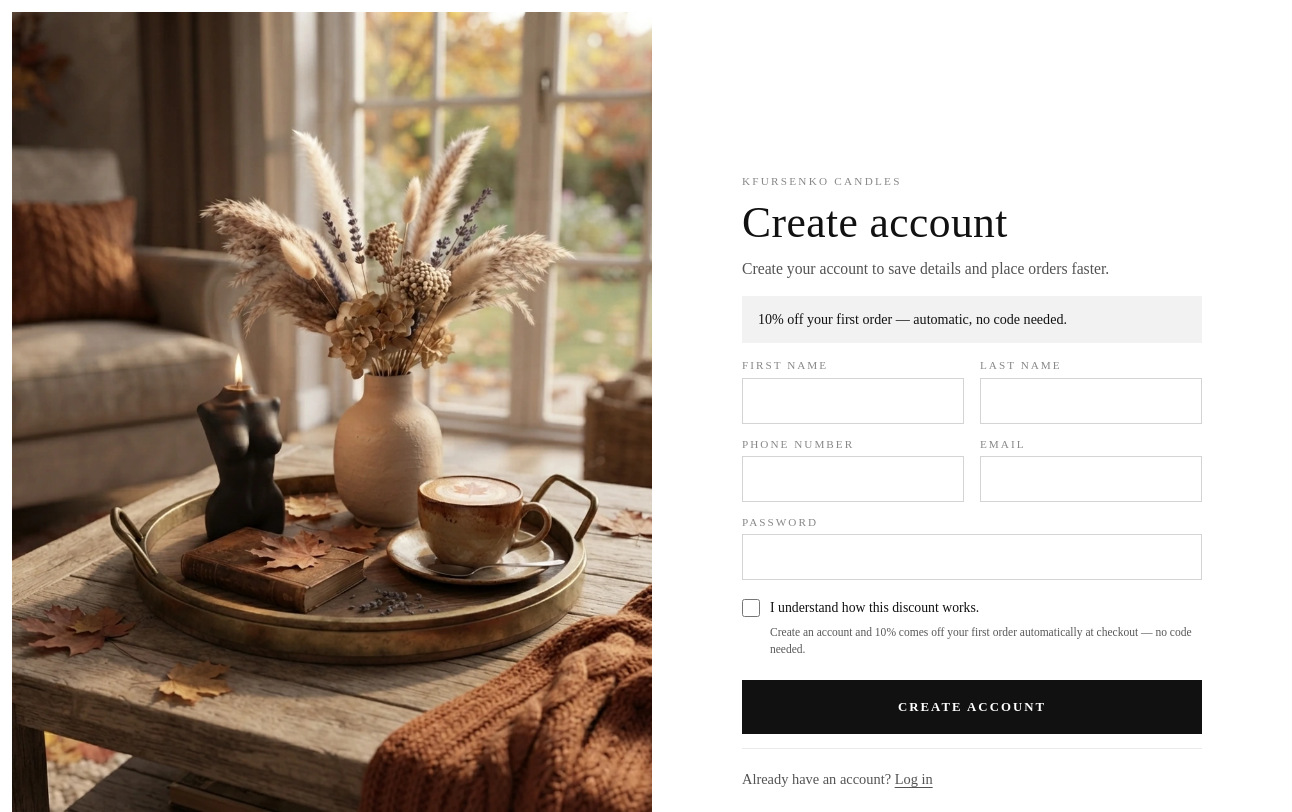
it: Register: accepting the sign-up discount's terms › sends the version it showed and the shopper's language
The width and height of the screenshot is (1292, 812).
Click the checkbox labelled "I understand how this discount works." at {"x": 751, "y": 608}, box x1=742 y1=599 x2=760 y2=617
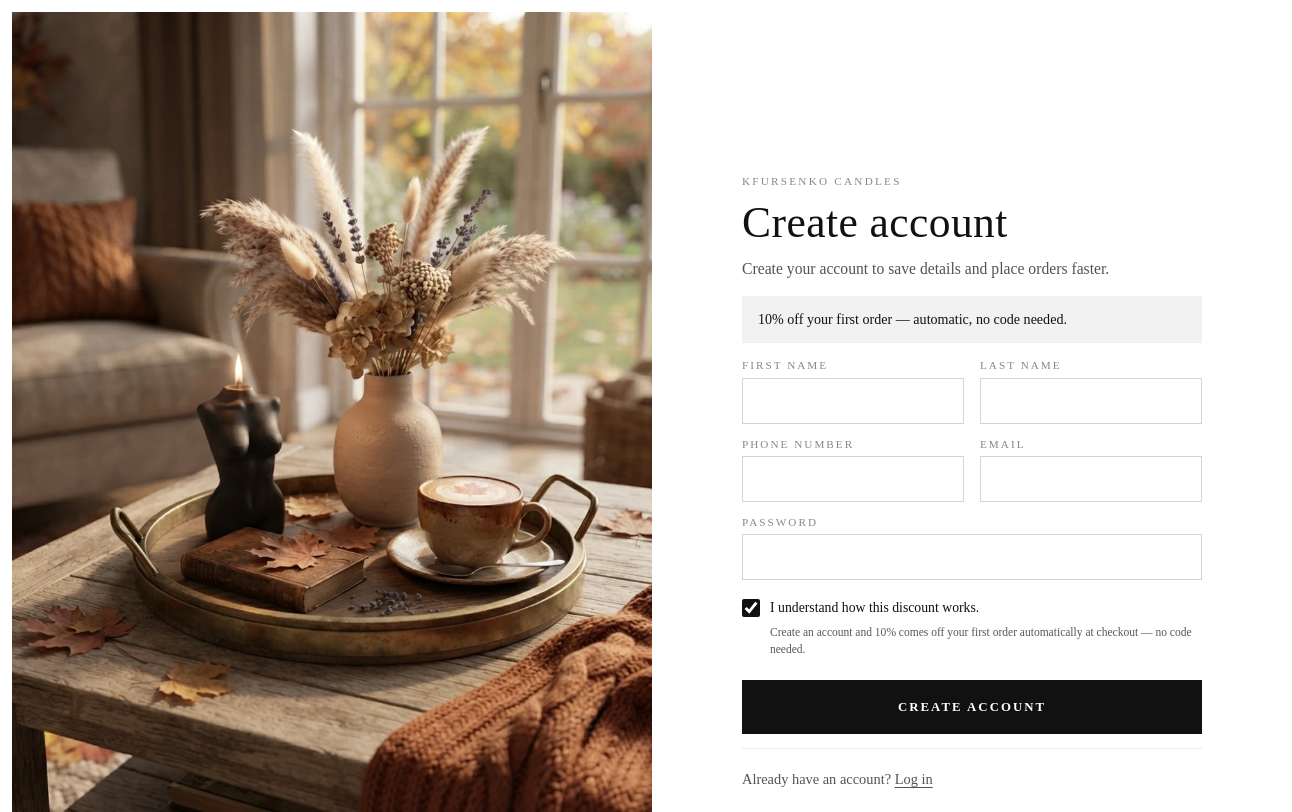
Type "Nina" into the field labelled "First name" at {"x": 853, "y": 401}, box x1=742 y1=378 x2=964 y2=424
Type "New" into the field labelled "Last name" at {"x": 1091, "y": 401}, box x1=980 y1=378 x2=1202 y2=424
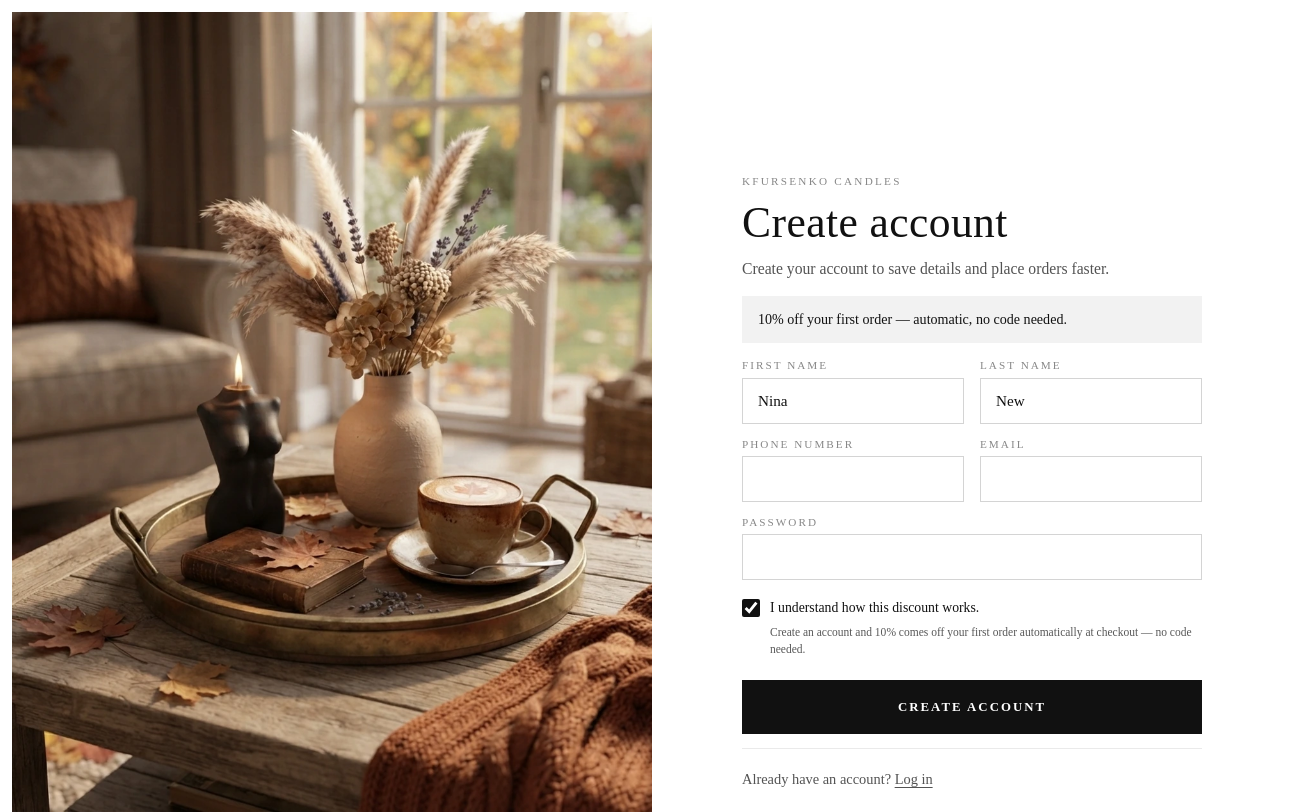
Type "+1 555 0100" into the field labelled "Phone number" at {"x": 853, "y": 479}, box x1=742 y1=456 x2=964 y2=502
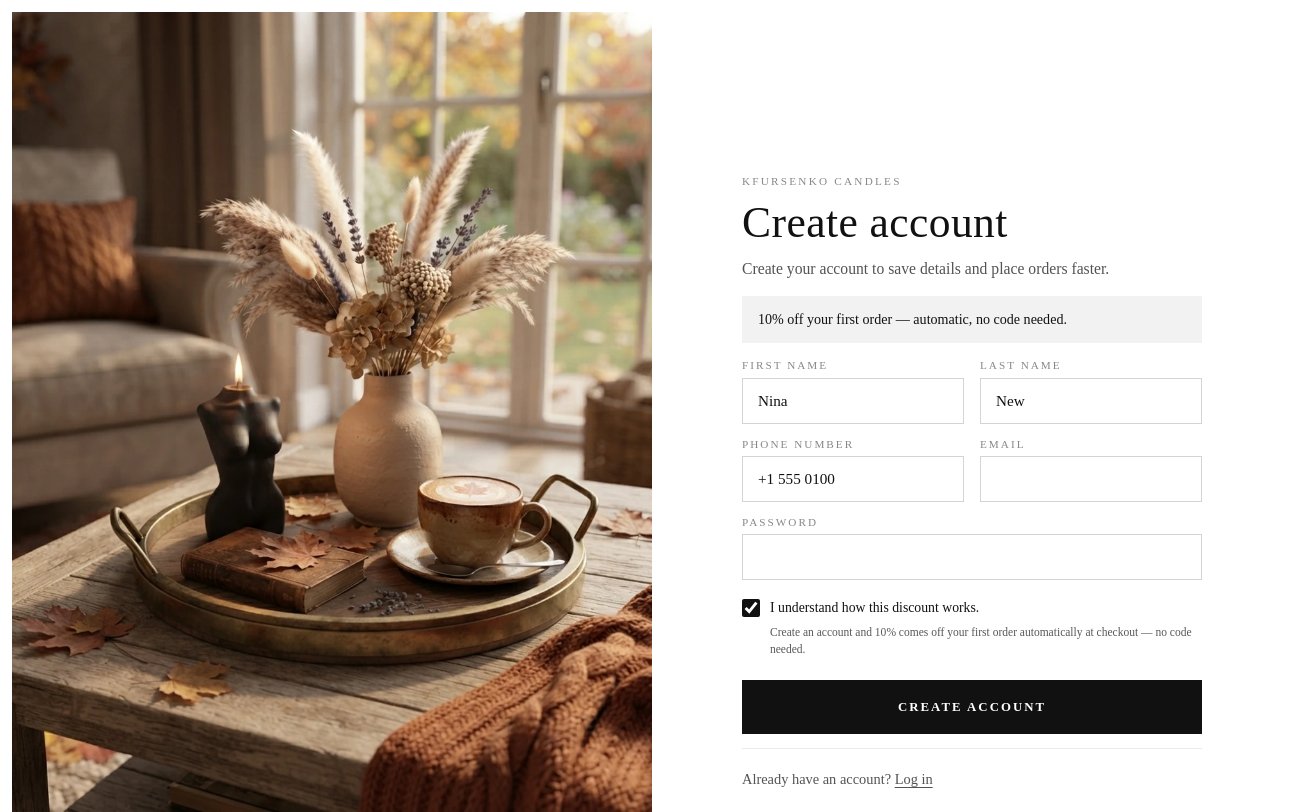
Type "nina@example.test" into the field labelled "Email" at {"x": 1091, "y": 479}, box x1=980 y1=456 x2=1202 y2=502
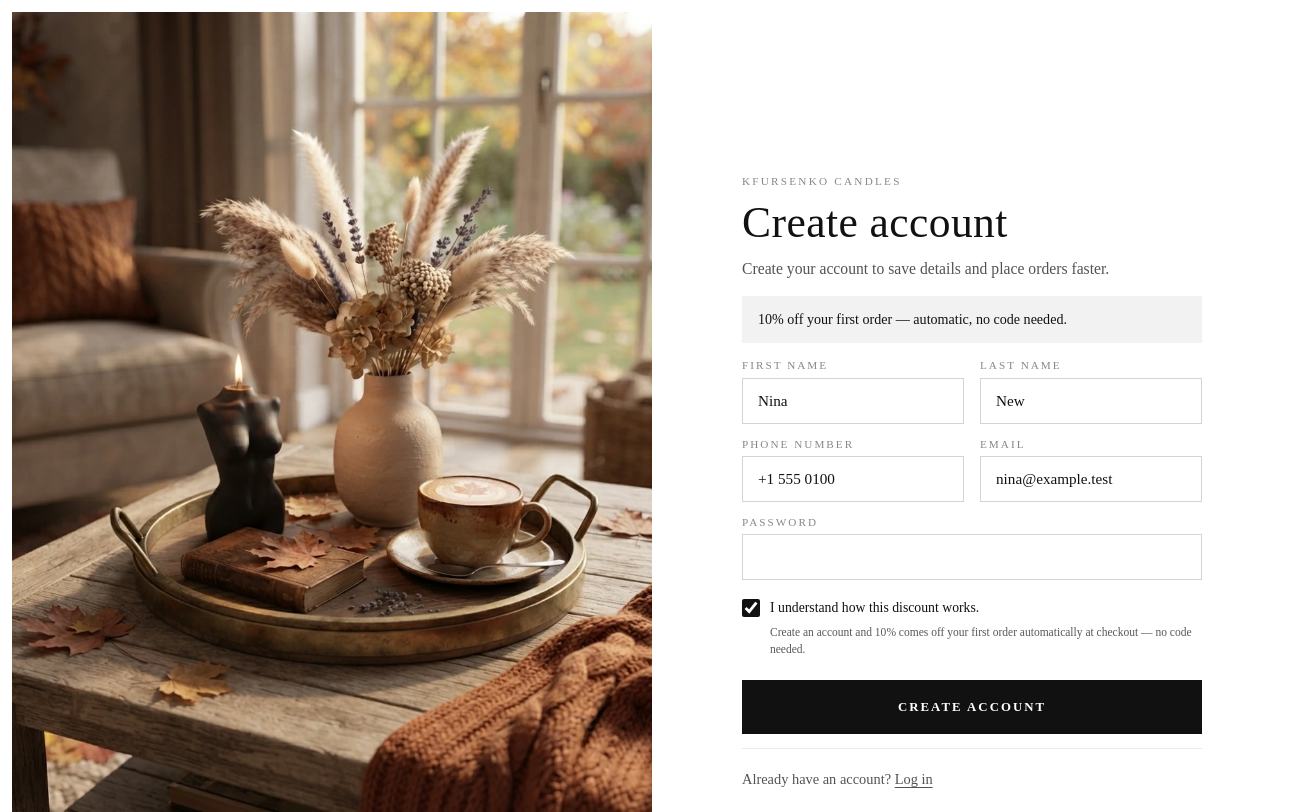
Type "testpass123" into the password field labelled "Password" at {"x": 972, "y": 557}, box x1=742 y1=534 x2=1202 y2=580
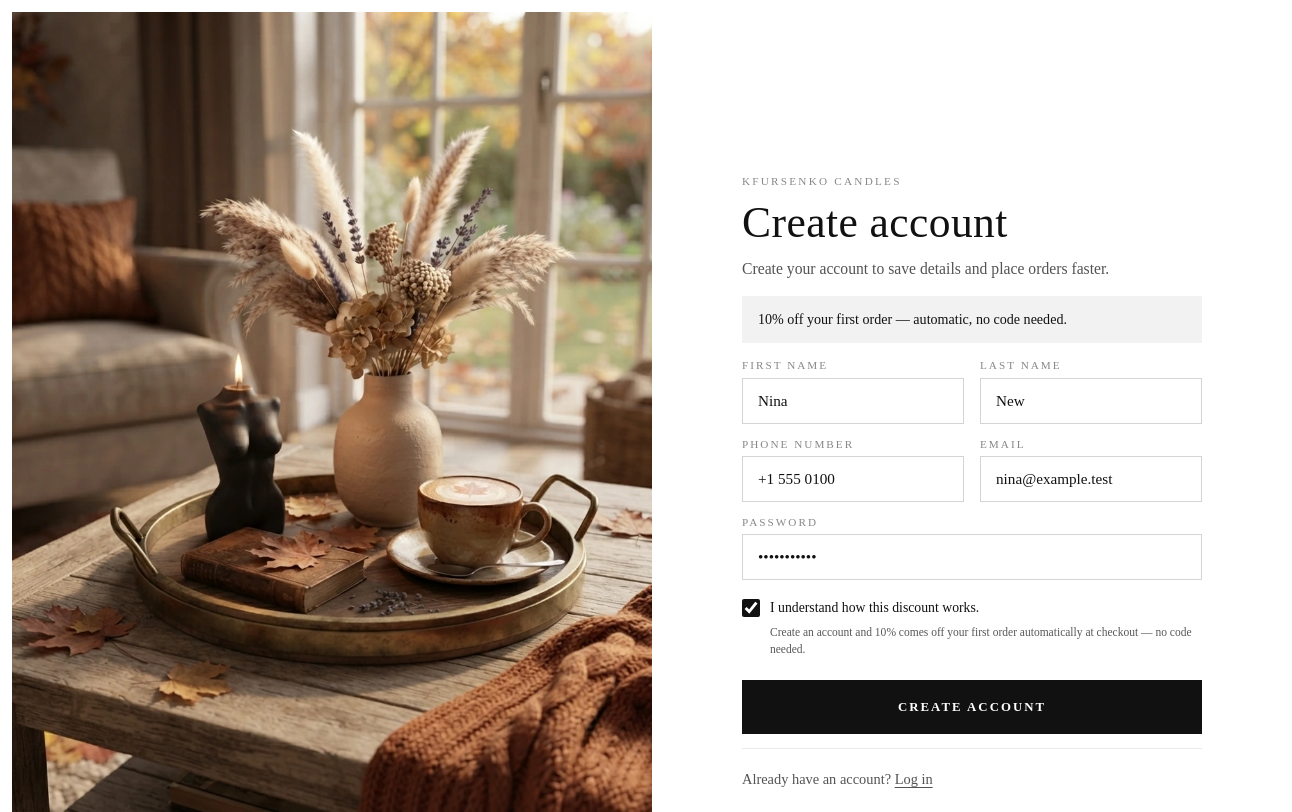
Click the button "Create account" at {"x": 972, "y": 707}, box x1=742 y1=680 x2=1202 y2=734
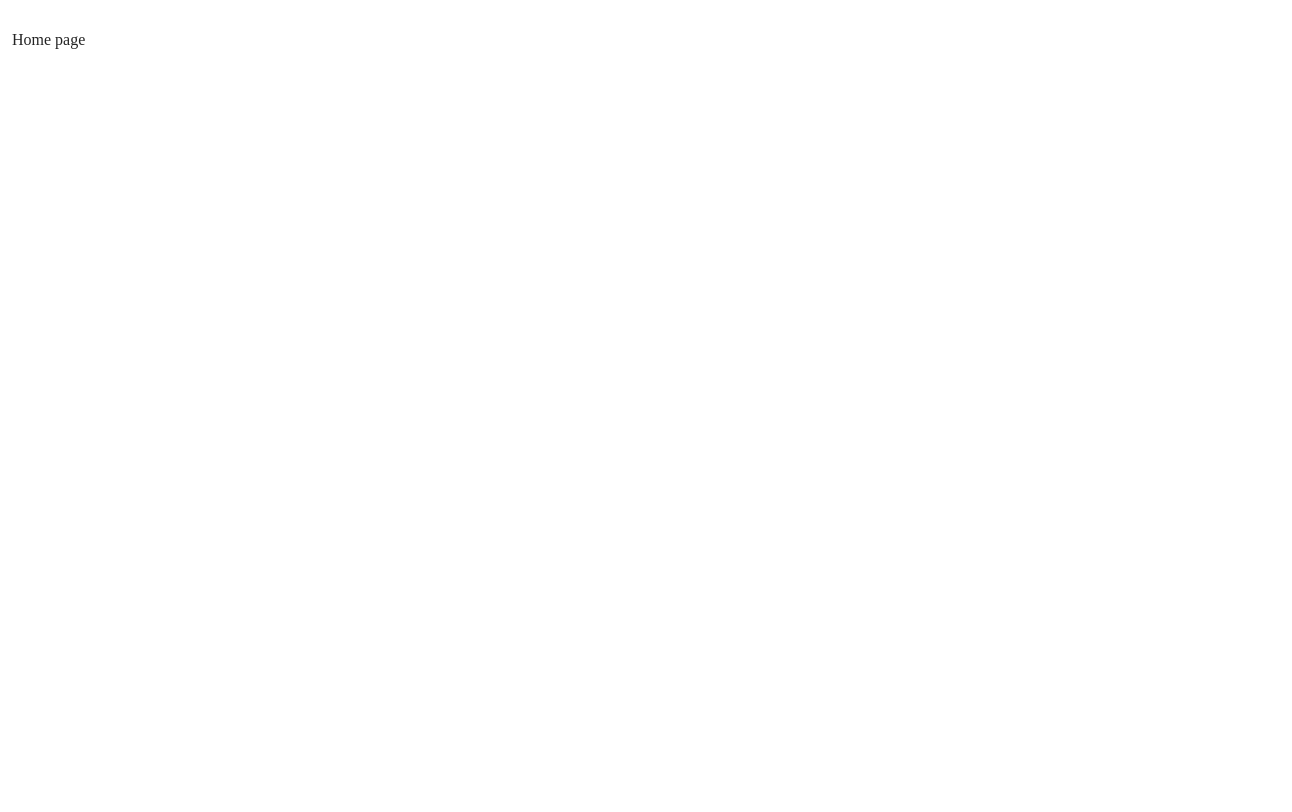
Expected: the text "Home page" is shown, x1=12 y1=31 x2=85 y2=48
